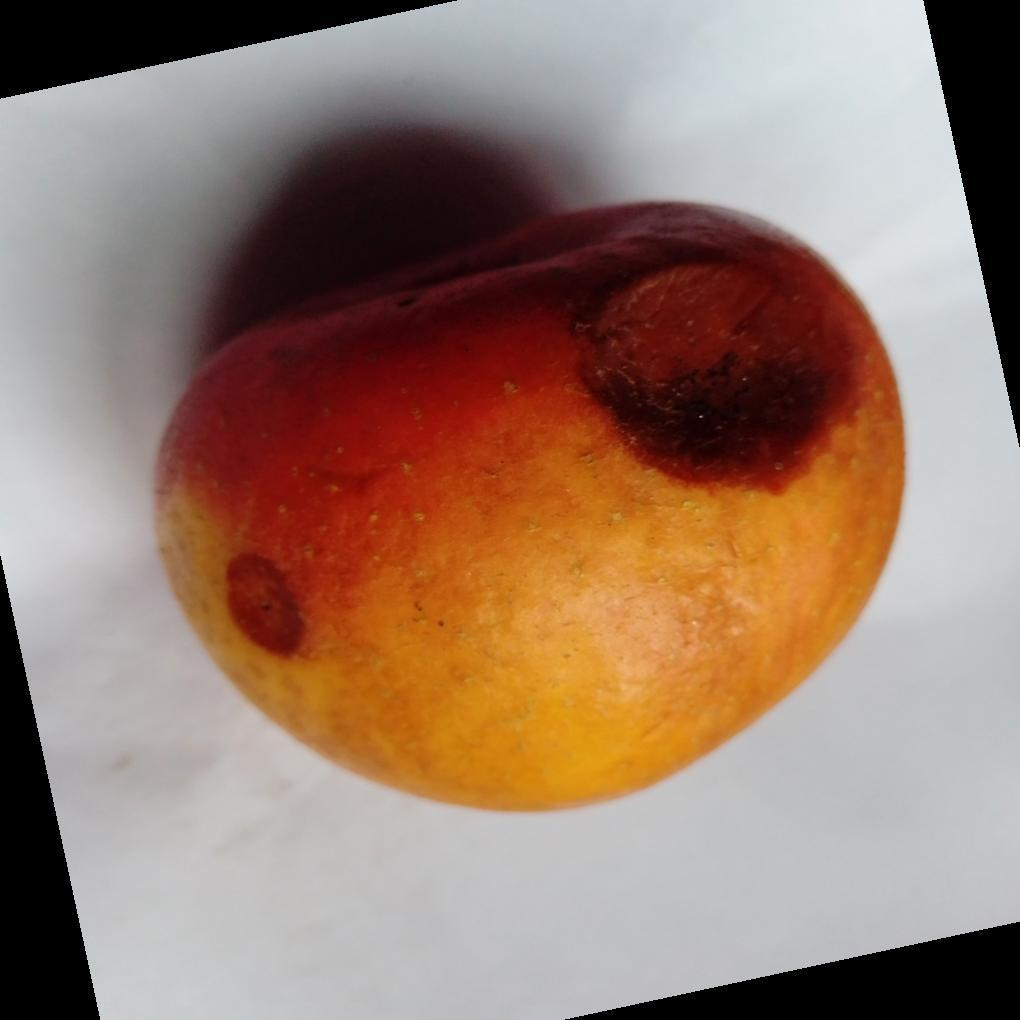FreshOrange: (149, 200, 910, 818)
